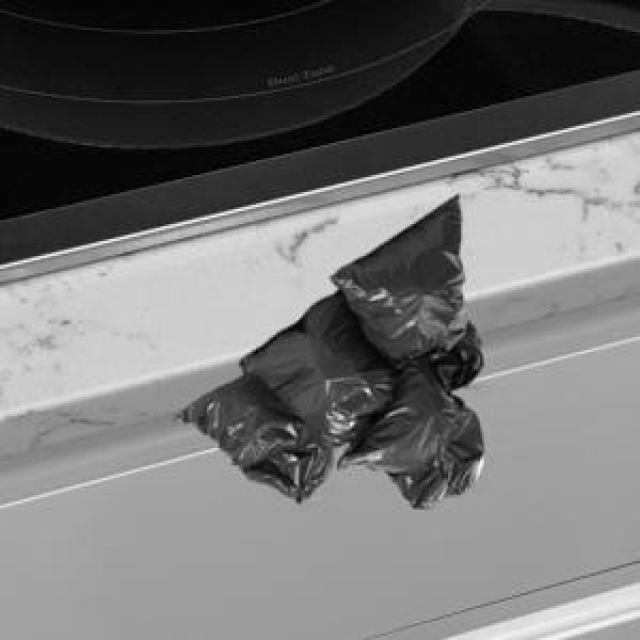miscellaneous trash: (171, 192, 482, 504)
